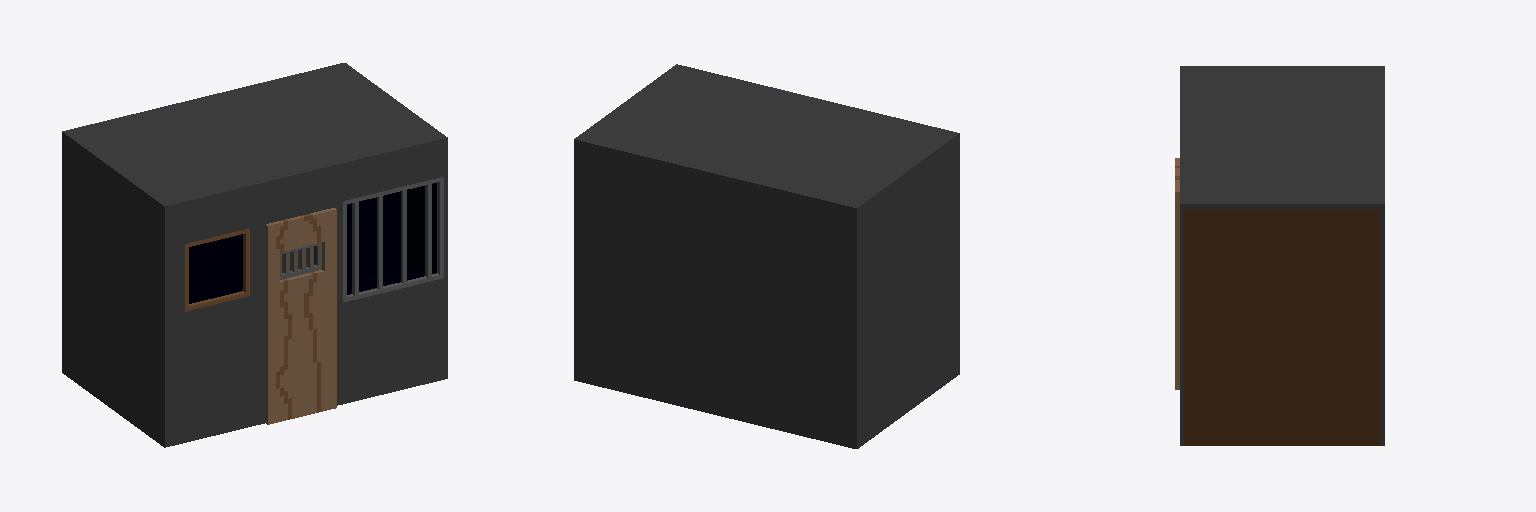
3 renders of one model, left to right at view 1: azimuth 30°, elevation 25°; view 2: azimuth 150°, elevation 25°; view 3: azimuth 270°, elevation 25°, orthographic.
Visible parts, largest first — view 1: object 1; view 2: object 1; view 3: object 1.
Boxes of the visible parts, <box> form: object 1: <box>62,63,447,447</box>; object 1: <box>574,64,959,448</box>; object 1: <box>1175,66,1384,445</box>.
Size of the model in its own units: 7 by 5.7 by 4.5.
1 materials, 1 textured.